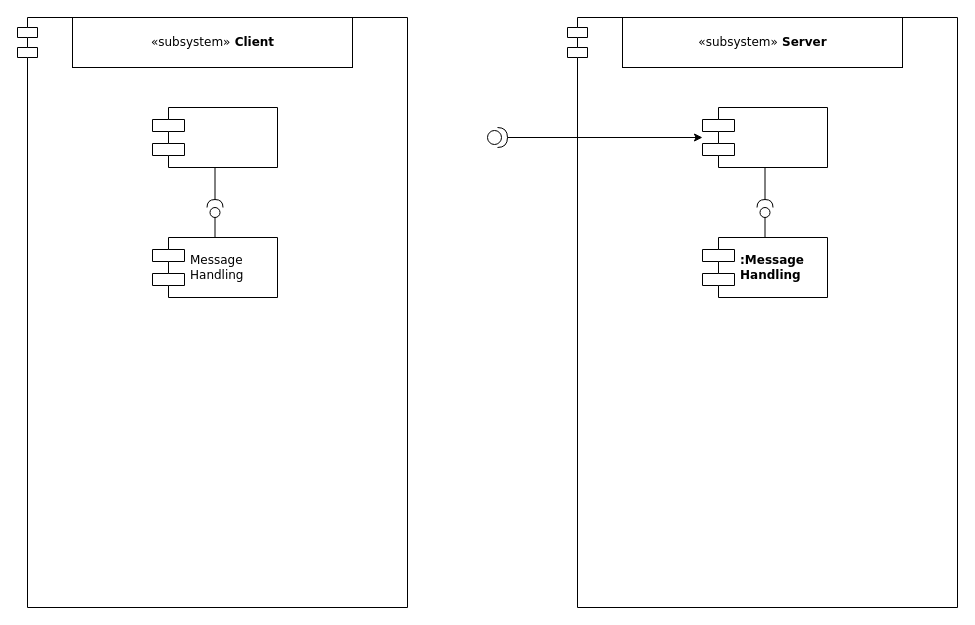
Image size: 975x625. Some labels were removed from this diagram. Each missing label, with the centre of its shape:
":Connection Handling" belongs at point 765,137.
"Connection Handling" belongs at point 215,137.
